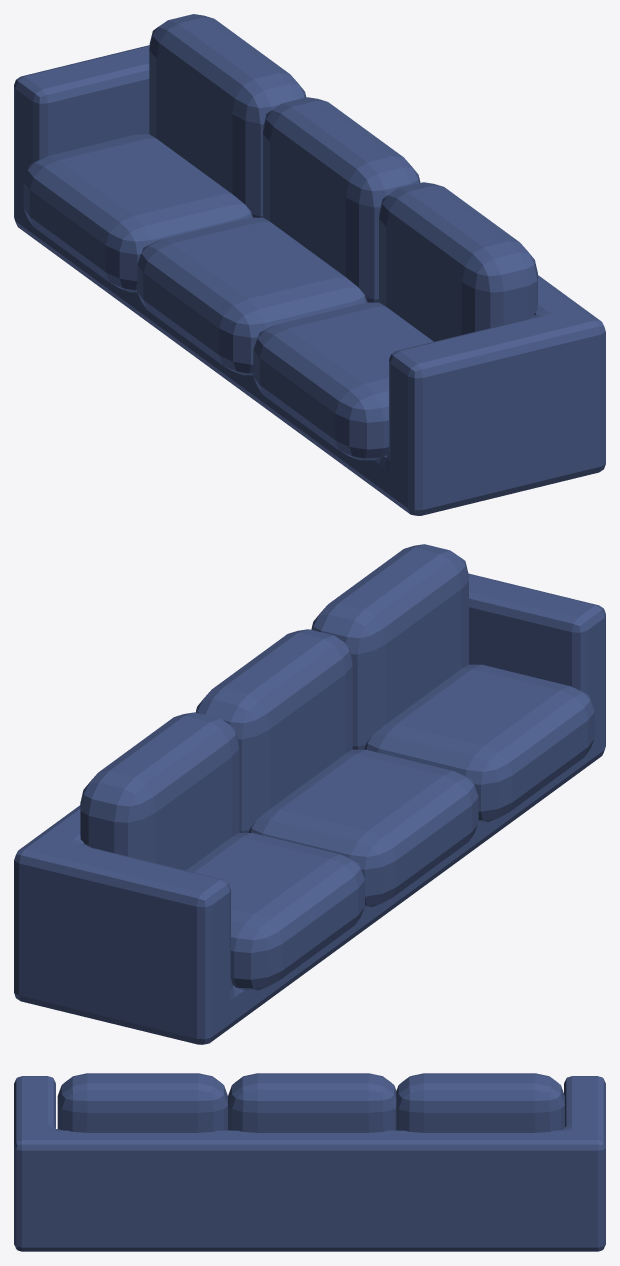
Rendered from sofa_triple.gltf.
The picture shows the model from 3 angles, top to bottom: view 1: azimuth 30°, elevation 25°; view 2: azimuth 150°, elevation 25°; view 3: azimuth 270°, elevation 25°; orthographic projection. The views are drawn at different scales.
Visible parts, largest first — view 1: Sofa D; view 2: Sofa D; view 3: Sofa D.
Part boxes in pixels (bbox=[...]): Sofa D: bbox=[14, 14, 605, 515]; Sofa D: bbox=[14, 544, 605, 1044]; Sofa D: bbox=[14, 1073, 605, 1251].
Size of the model in its own units: 4.14 by 3.67 by 12.85.
